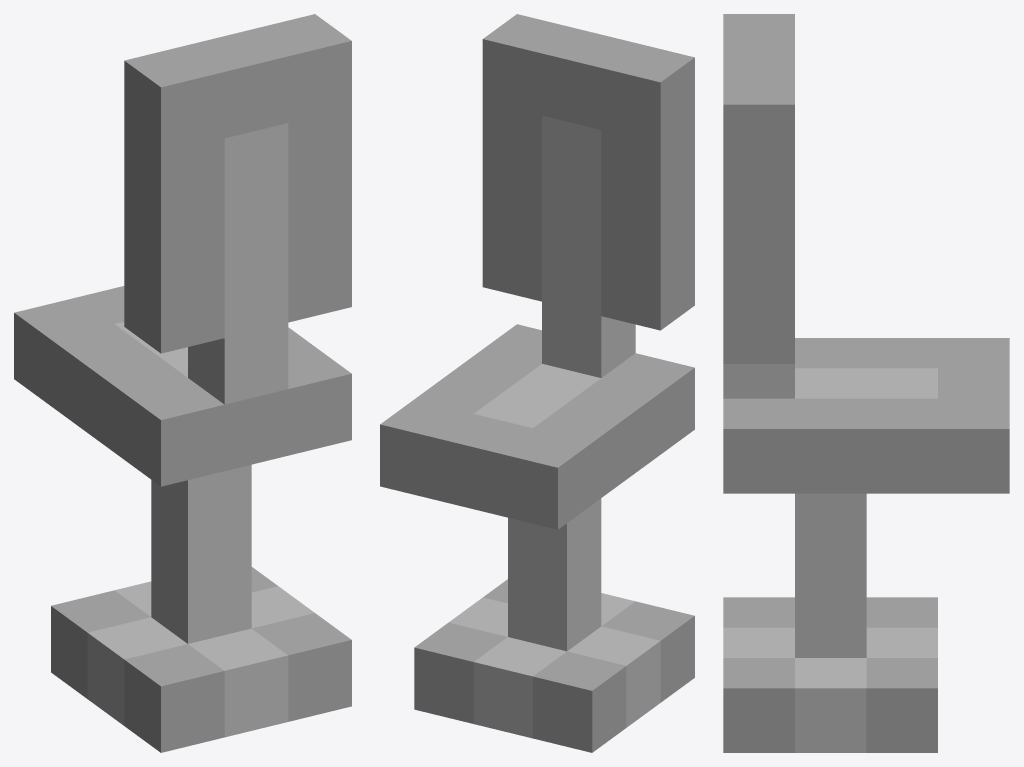
The model's file is chair_nm.fbx.
The picture shows the model from 3 angles, left to right: view 1: azimuth 30°, elevation 25°; view 2: azimuth 150°, elevation 25°; view 3: azimuth 270°, elevation 25°; orthographic projection. The views are drawn at different scales.
Parts seen in each view (by area): view 1: 多边形; view 2: 多边形; view 3: 多边形.
Boxes of the visible parts, x1=… form: 多边形: x1=14, y1=14, x2=351, y2=752; 多边形: x1=380, y1=14, x2=694, y2=752; 多边形: x1=723, y1=14, x2=1009, y2=752.
Size of the model in its own units: 0.3 by 1 by 0.4.
1 material, 1 textured.
